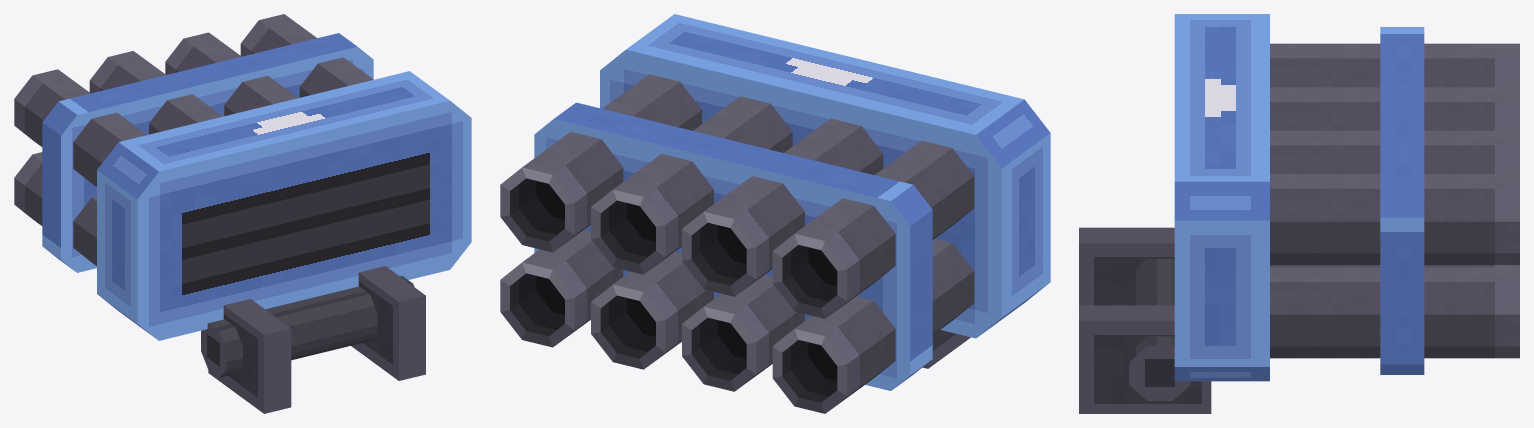
Rendered from mortar.glb.
3 views of the same model, side by side, from view 1: azimuth 30°, elevation 25°; view 2: azimuth 150°, elevation 25°; view 3: azimuth 270°, elevation 25° (orthographic). The views are drawn at different scales.
Visible parts, largest first — view 1: mortar_head; view 2: mortar_head; view 3: mortar_head.
Boxes of the visible parts, x1,y1,x2,y2 form: mortar_head: (14,14,471,413); mortar_head: (500,14,1050,413); mortar_head: (1079,14,1519,413).
Bounding box in the file's own units: 0.62 × 0.405 × 0.6.
Materials: 1 (1 with a texture image).
